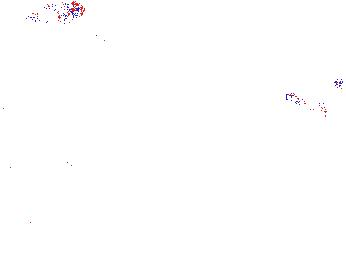X-ray fish: (30, 2, 85, 25)
glassfish: (1, 101, 85, 160)
redtail glassfish: (282, 90, 329, 123), (330, 75, 346, 90)
